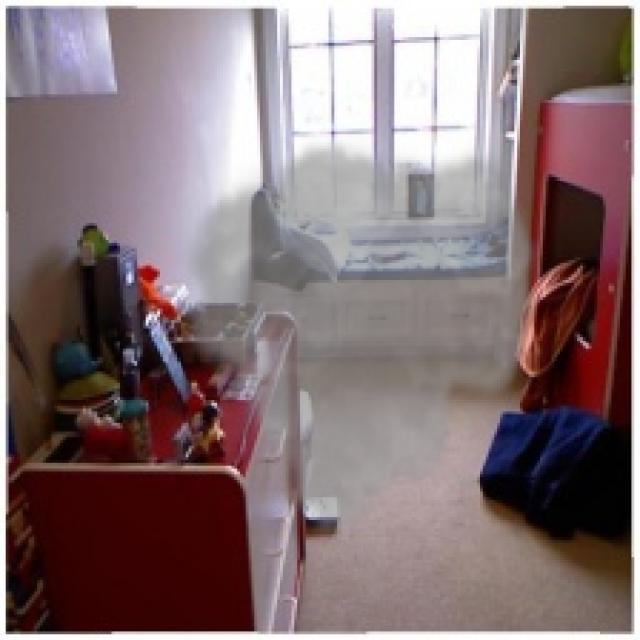Smoke: (174, 137, 543, 543)
